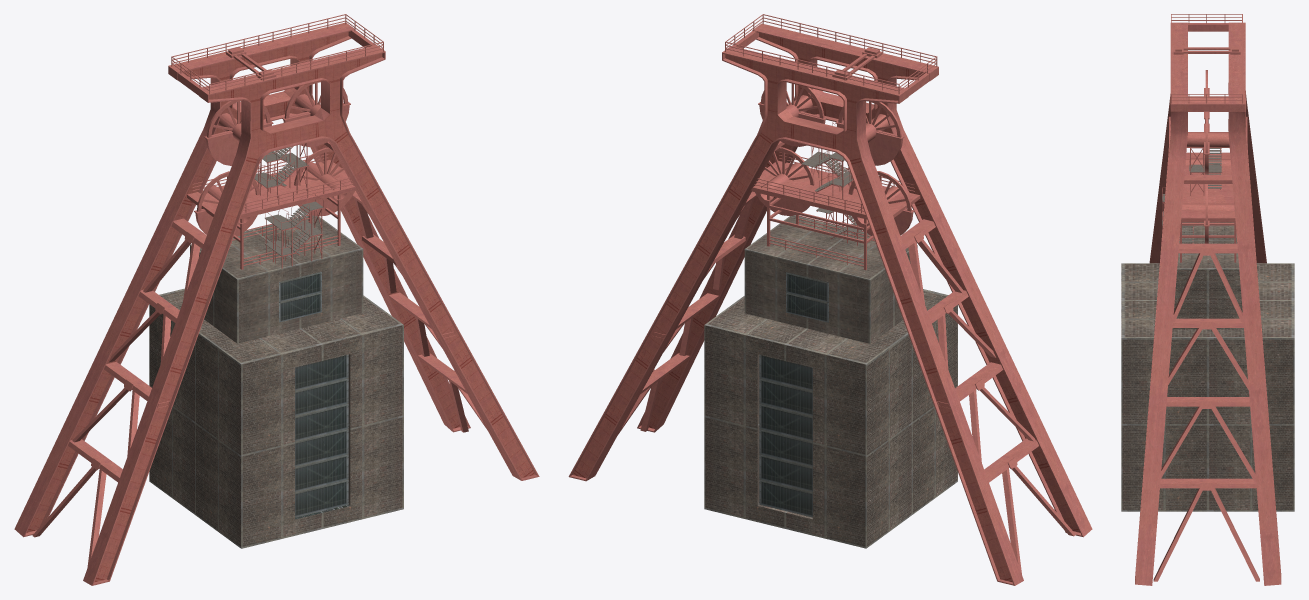
The model's file is shaft_tower01.dae.
3 renders of one model, left to right at view 1: azimuth 30°, elevation 25°; view 2: azimuth 150°, elevation 25°; view 3: azimuth 270°, elevation 25°, orthographic. The views are drawn at different scales.
Visible parts, largest first — view 1: Mesh; view 2: Mesh; view 3: Mesh.
Part boxes in pixels (x1,y1,x2,y2): Mesh: [14, 14, 539, 585]; Mesh: [568, 14, 1092, 585]; Mesh: [1121, 14, 1294, 585].
Size of the model in its own units: 43.8 by 42.62 by 15.59.
Materials: 6 (6 with a texture image).
